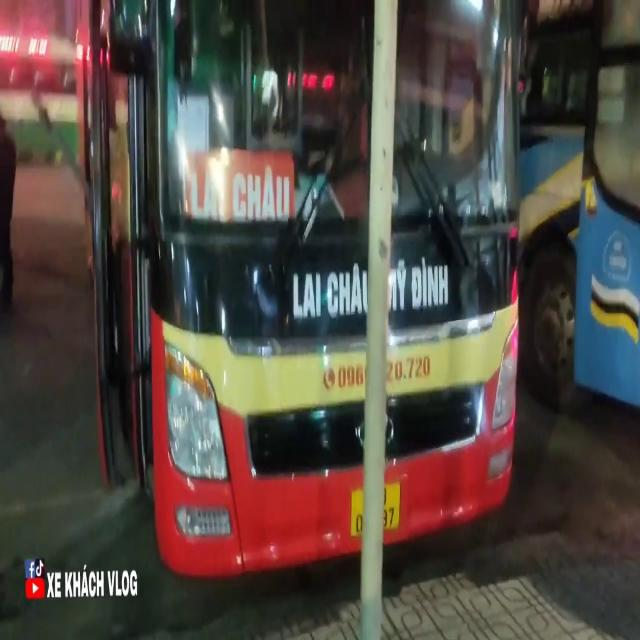bien_vang: (352, 487, 401, 535)
